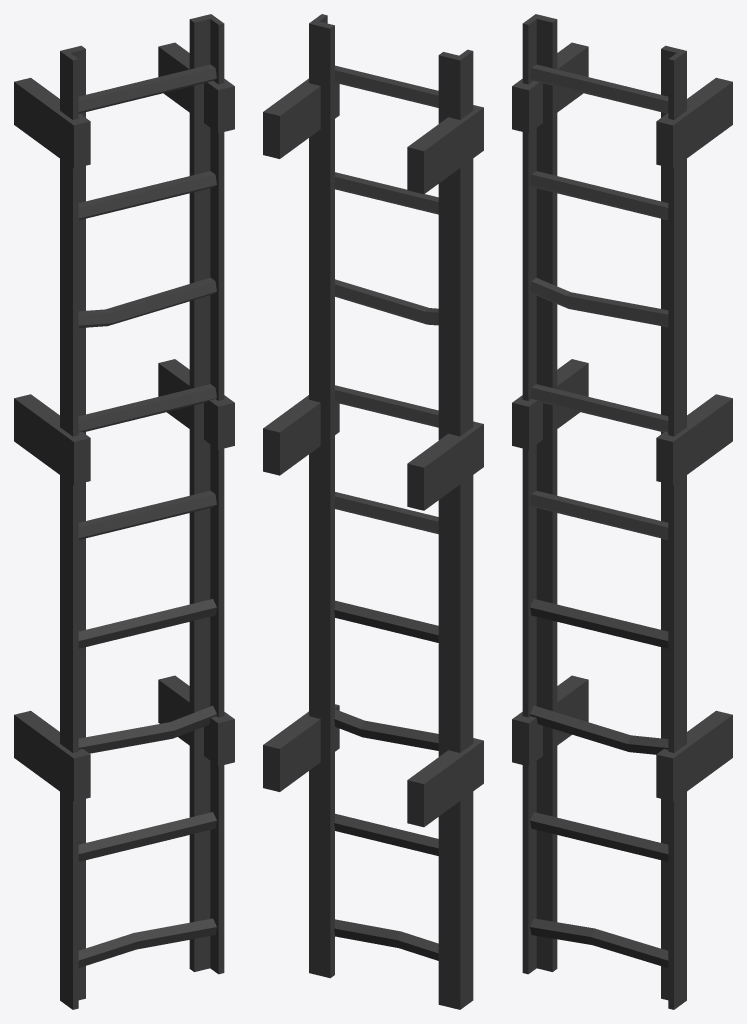
The model's file is SM_Prop_Ladder_02.obj.
3 views of the same model, side by side, from view 1: azimuth 30°, elevation 25°; view 2: azimuth 150°, elevation 25°; view 3: azimuth 330°, elevation 25° (orthographic).
Parts seen in each view (by area): view 1: SM_Prop_Ladder_02_0; view 2: SM_Prop_Ladder_02_0; view 3: SM_Prop_Ladder_02_0.
Part boxes in pixels (x1=…): SM_Prop_Ladder_02_0: x1=14, y1=14, x2=234, y2=1009; SM_Prop_Ladder_02_0: x1=263, y1=14, x2=483, y2=1009; SM_Prop_Ladder_02_0: x1=512, y1=14, x2=732, y2=1009.
Bounding box in the file's own units: 0.5325 × 3 × 0.3423.
1 material, 1 textured.
